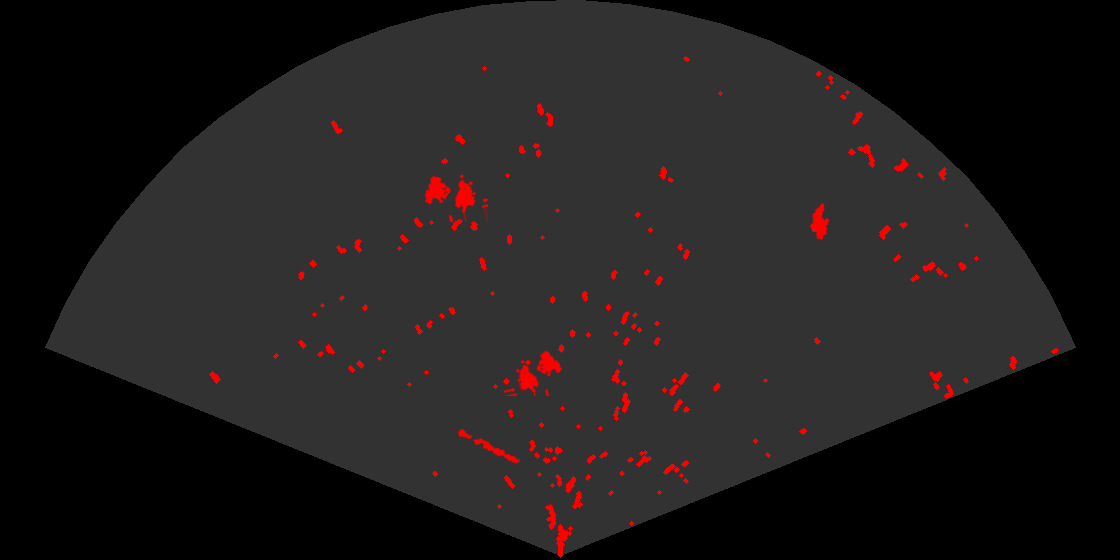AUV: (808, 201, 831, 242)
cage: (423, 173, 488, 222), (504, 349, 564, 396)
chain: (449, 425, 521, 465)
